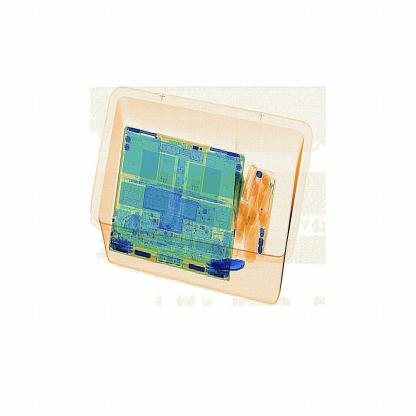knife: (205, 252, 257, 277)
